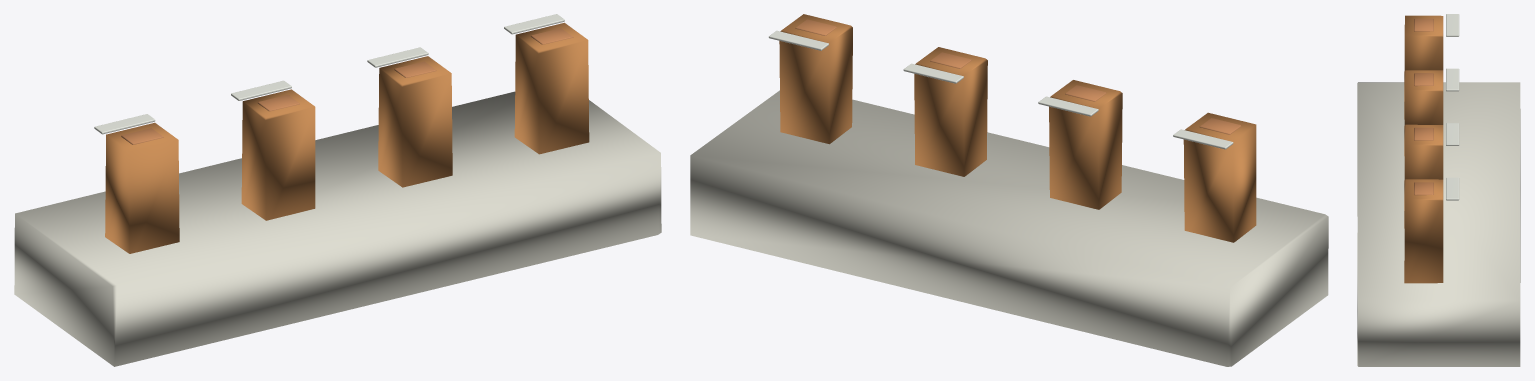
The model's file is terminal_comb-busbar.low.glb.
The picture shows the model from 3 angles, left to right: view 1: azimuth 30°, elevation 25°; view 2: azimuth 150°, elevation 25°; view 3: azimuth 270°, elevation 25°; orthographic projection. The views are drawn at different scales.
Parts seen in each view (by area): view 1: node-4, node-3 · Original material.001, Moulded terminal legend pad, Moulded terminal legend pad.002, Moulded terminal legend pad.003, Moulded terminal legend pad.001; view 2: node-4, node-3 · Original material.001, Moulded terminal legend pad, Moulded terminal legend pad.002, Moulded terminal legend pad.001, Moulded terminal legend pad.003; view 3: node-4, node-3 · Original material.001, Moulded terminal legend pad.001, Moulded terminal legend pad.003, Moulded terminal legend pad, Moulded terminal legend pad.002, Square copper clamping blade, Square copper clamping blade.002, Square copper clamping blade.003, Square copper clamping blade.001.
Part boxes in pixels (x1,y1,x2,y2): node-4: (14,91,661,366); node-3 · Original material.001: (105,22,589,253); Moulded terminal legend pad: (94,114,155,134); Moulded terminal legend pad.002: (367,47,428,67); Moulded terminal legend pad.003: (504,14,564,34); Moulded terminal legend pad.001: (231,80,291,100); node-4: (690,90,1328,366); node-3 · Original material.001: (779,14,1256,242); Moulded terminal legend pad: (1173,129,1233,149); Moulded terminal legend pad.002: (903,63,963,83); Moulded terminal legend pad.001: (1038,96,1098,116); Moulded terminal legend pad.003: (768,30,828,50); node-4: (1357,82,1520,366); node-3 · Original material.001: (1404,15,1443,283); Moulded terminal legend pad.001: (1446,68,1459,91); Moulded terminal legend pad.003: (1446,177,1459,200); Moulded terminal legend pad: (1446,14,1459,36); Moulded terminal legend pad.002: (1446,123,1459,145); Square copper clamping blade: (1414,18,1433,31); Square copper clamping blade.002: (1414,127,1433,140); Square copper clamping blade.003: (1414,182,1433,195); Square copper clamping blade.001: (1414,73,1433,86).
Size of the model in its own units: 0.9646 by 0.3113 by 0.3036.
